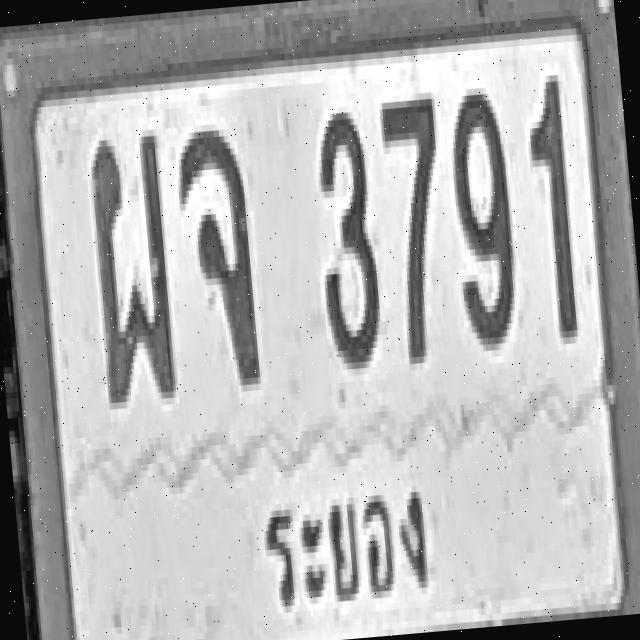1: (522, 71, 580, 342)
17ChorChan: (174, 122, 262, 388)
3: (310, 104, 384, 370)
37PhorPhueng: (85, 128, 178, 402)
7: (378, 92, 456, 365)
9: (445, 86, 520, 346)
Rayong: (249, 440, 445, 632)
